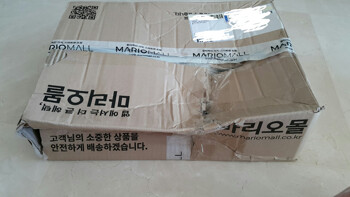damaged package: (189, 60, 248, 160), (18, 125, 44, 155)
